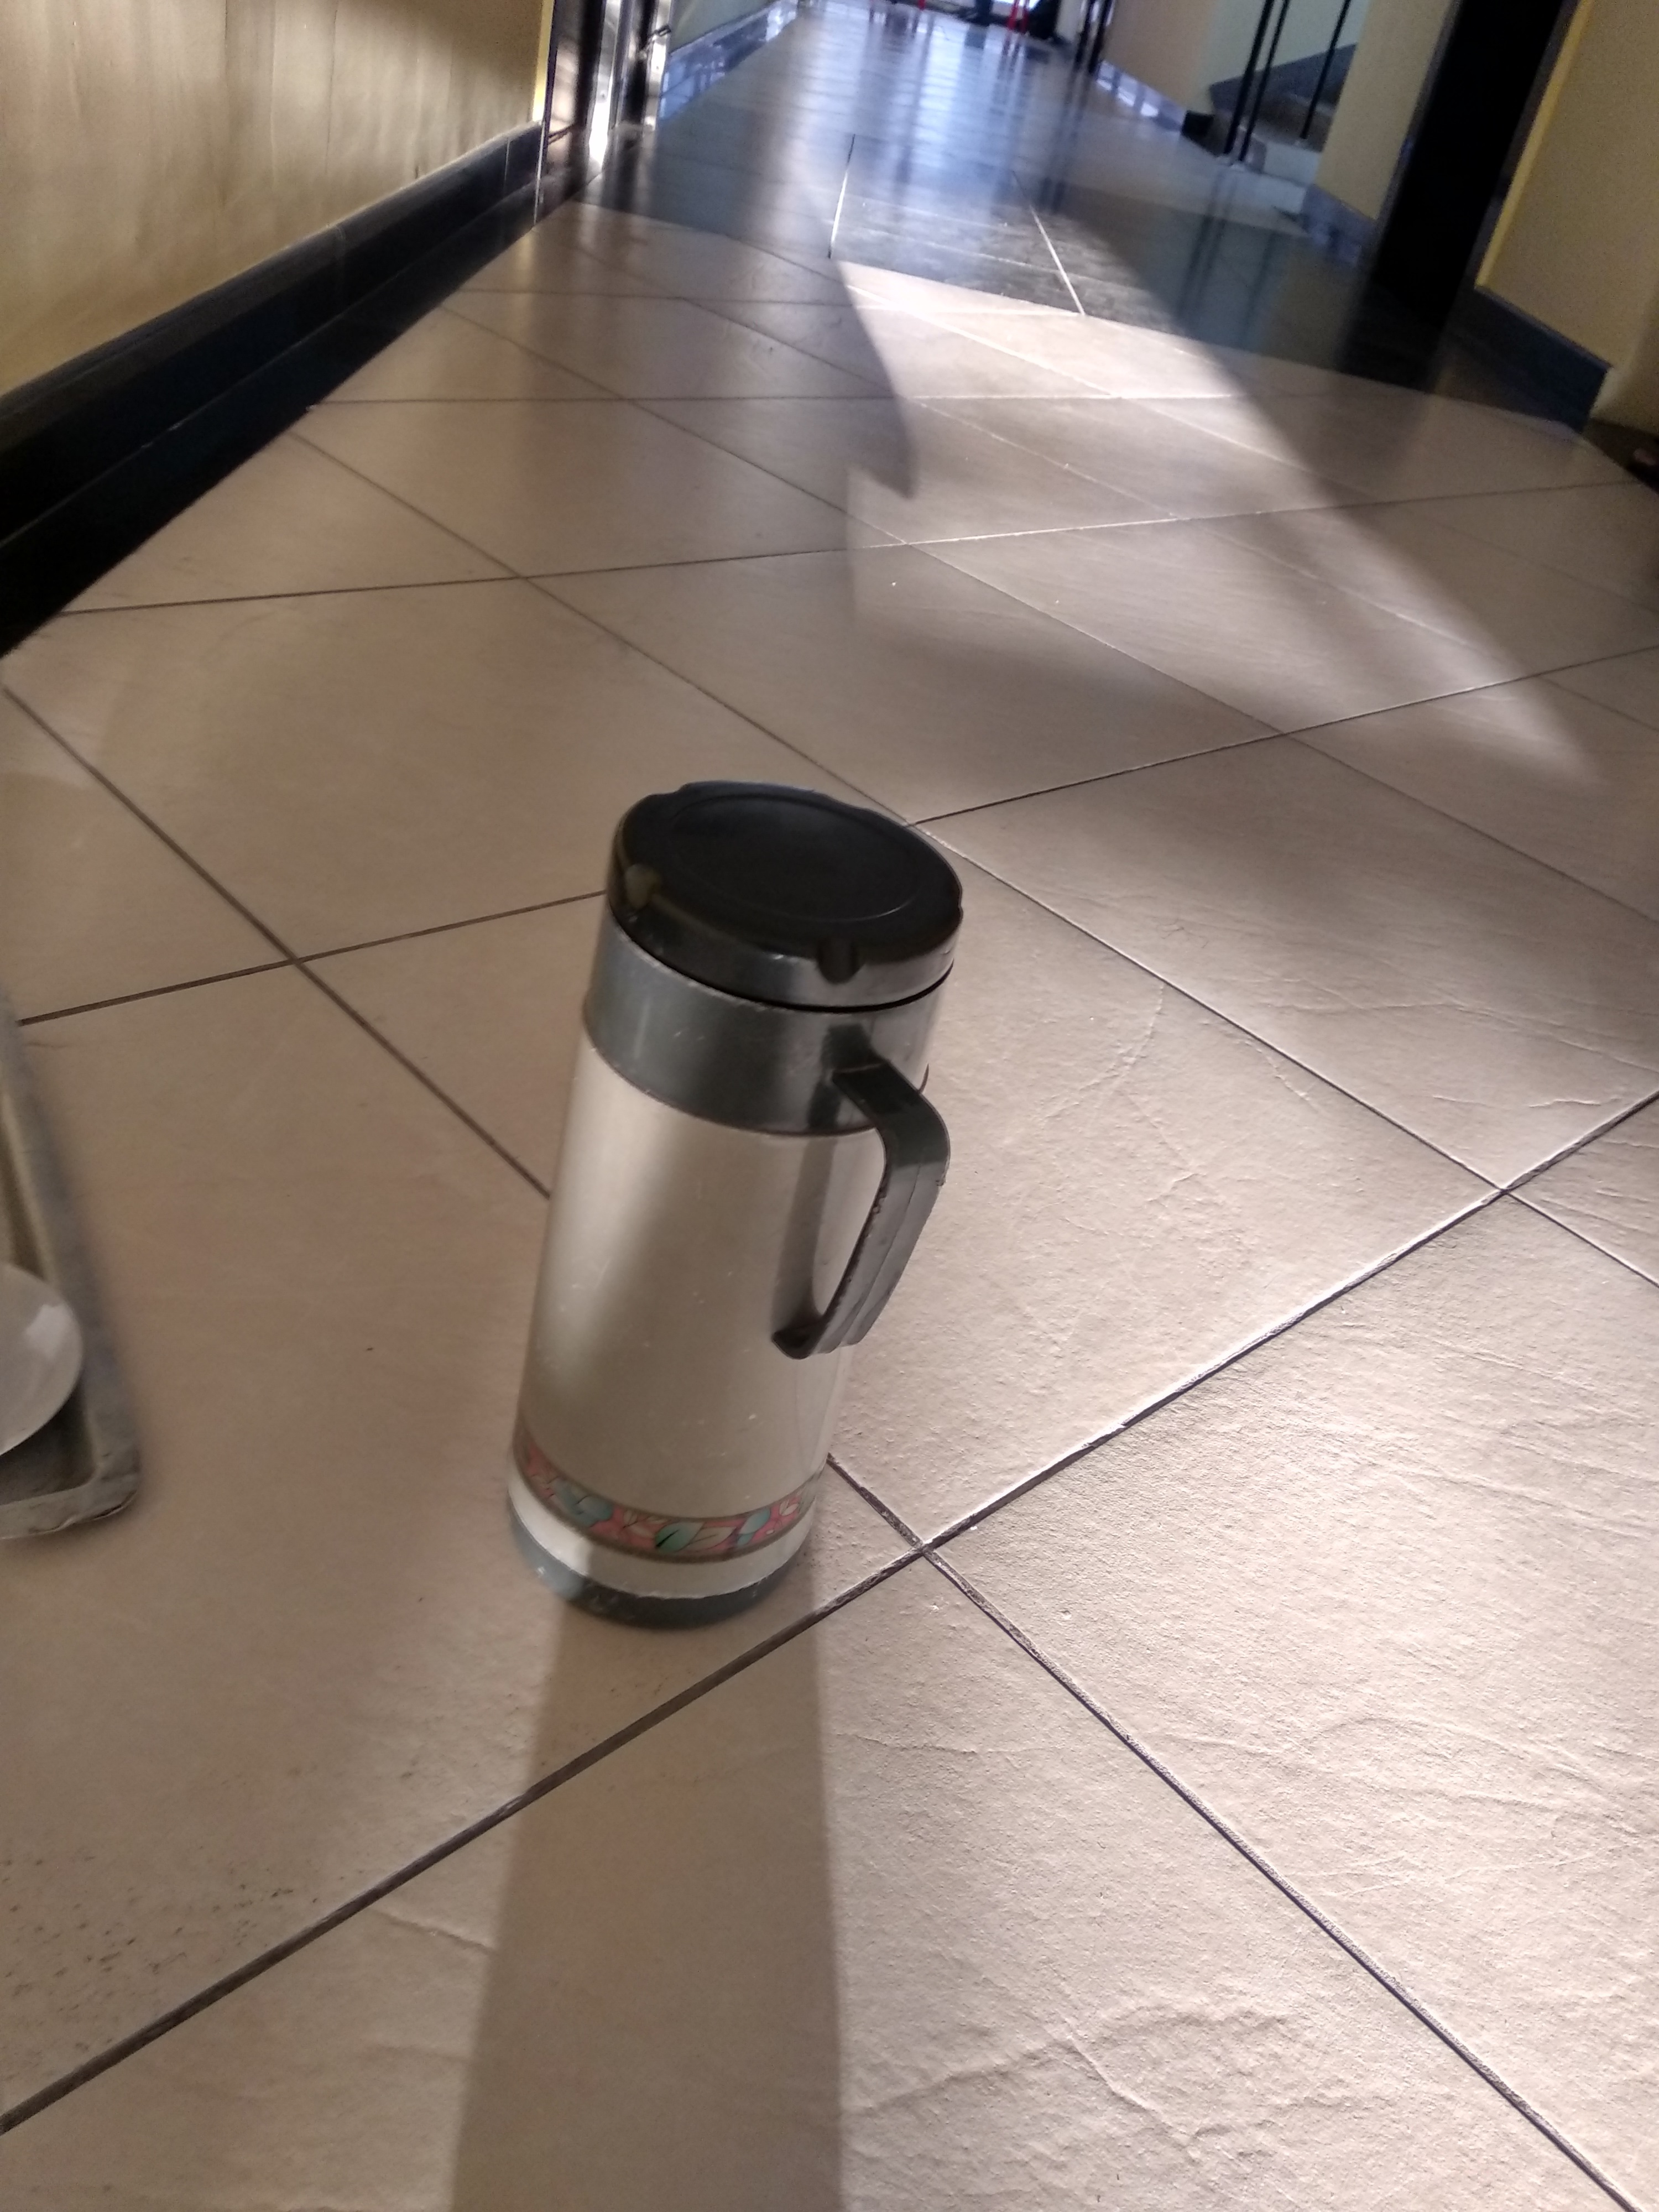JUG: (505, 772, 962, 1630)
